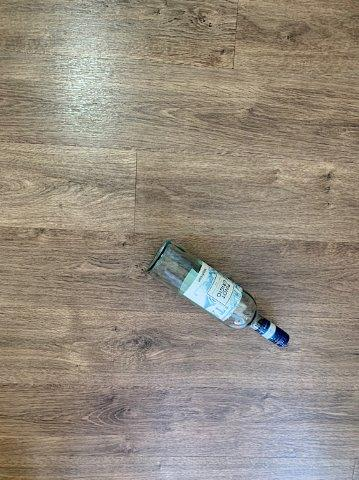botolkaca: (149, 241, 290, 346)
